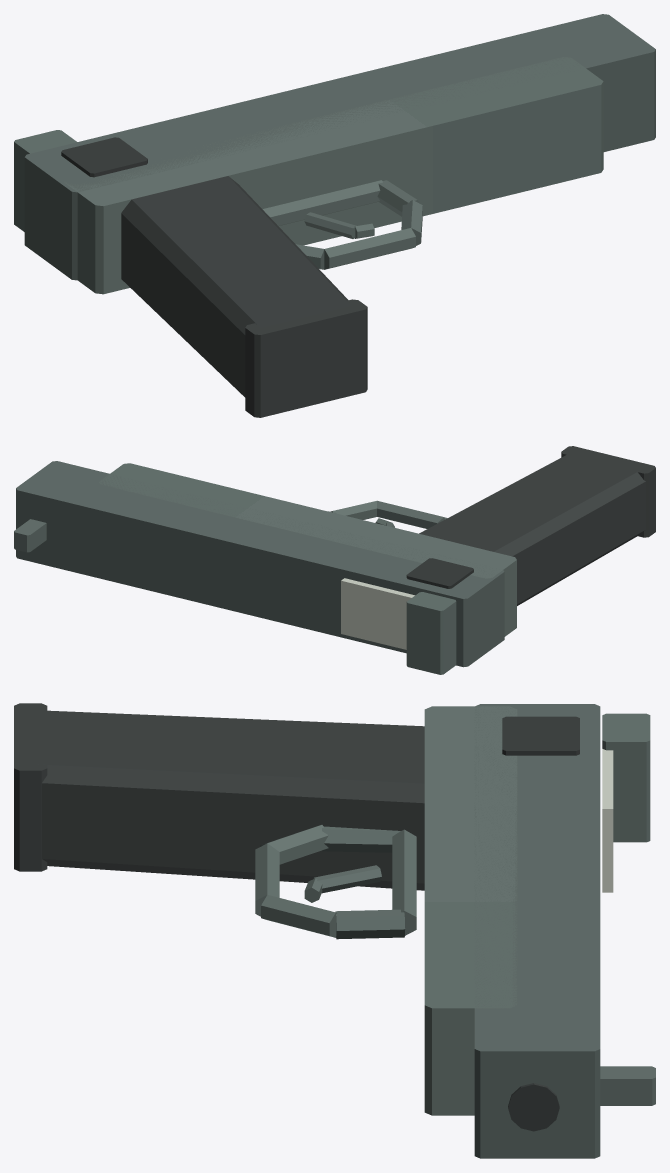
File: weapon-glock-34.glb
The picture shows the model from 3 angles, top to bottom: view 1: azimuth 30°, elevation 25°; view 2: azimuth 150°, elevation 25°; view 3: azimuth 270°, elevation 25°; orthographic projection. The views are drawn at different scales.
Visible parts, largest first — view 1: weapon-glock-34/lower-frame, weapon-glock-34/flat-slide, weapon-glock-34/eight-sided-grip, weapon-glock-34/eight-sided-grip-heel, weapon-glock-34/hollow-trigger-guard-1, weapon-glock-34/slide-rear-serrations-left, weapon-glock-34/hollow-trigger-guard-4, weapon-glock-34/rear-sight, weapon-glock-34/hollow-trigger-guard-trigger-1, weapon-glock-34/hollow-trigger-guard-2, weapon-glock-34/hollow-trigger-guard-3; view 2: weapon-glock-34/flat-slide, weapon-glock-34/eight-sided-grip, weapon-glock-34/lower-frame, weapon-glock-34/rear-sight, weapon-glock-34/top-cover-plate, weapon-glock-34/eight-sided-grip-heel, weapon-glock-34/slide-rear-serrations-left, weapon-glock-34/hollow-trigger-guard-4, weapon-glock-34/front-sight, weapon-glock-34/hollow-trigger-guard-3; view 3: weapon-glock-34/eight-sided-grip, weapon-glock-34/flat-slide, weapon-glock-34/lower-frame, weapon-glock-34/rear-sight, weapon-glock-34/eight-sided-grip-heel, weapon-glock-34/slide-rear-serrations-left, weapon-glock-34/front-sight, weapon-glock-34/hollow-trigger-guard-1, weapon-glock-34/hollow-trigger-guard-2, weapon-glock-34/muzzle-dark-disc, weapon-glock-34/hollow-trigger-guard-3, weapon-glock-34/top-cover-plate (+4 smaller).
Boxes of the visible parts, box(x1,y1,x2,y2) form: weapon-glock-34/lower-frame: box(64, 57, 603, 294); weapon-glock-34/flat-slide: box(24, 14, 655, 280); weapon-glock-34/eight-sided-grip: box(121, 176, 351, 397); weapon-glock-34/eight-sided-grip-heel: box(245, 299, 367, 417); weapon-glock-34/hollow-trigger-guard-1: box(262, 180, 382, 225); weapon-glock-34/slide-rear-serrations-left: box(61, 137, 147, 177); weapon-glock-34/hollow-trigger-guard-4: box(324, 228, 415, 269); weapon-glock-34/rear-sight: box(14, 130, 76, 231); weapon-glock-34/hollow-trigger-guard-trigger-1: box(304, 212, 356, 238); weapon-glock-34/hollow-trigger-guard-2: box(377, 180, 419, 216); weapon-glock-34/hollow-trigger-guard-3: box(401, 200, 422, 245); weapon-glock-34/flat-slide: box(16, 461, 504, 667); weapon-glock-34/eight-sided-grip: box(419, 451, 645, 605); weapon-glock-34/lower-frame: box(99, 463, 516, 636); weapon-glock-34/rear-sight: box(406, 592, 456, 674); weapon-glock-34/top-cover-plate: box(341, 578, 414, 649); weapon-glock-34/eight-sided-grip-heel: box(561, 446, 655, 537); weapon-glock-34/slide-rear-serrations-left: box(406, 558, 473, 588); weapon-glock-34/hollow-trigger-guard-4: box(377, 500, 447, 528); weapon-glock-34/front-sight: box(14, 519, 46, 552); weapon-glock-34/hollow-trigger-guard-3: box(331, 501, 376, 519); weapon-glock-34/eight-sided-grip: box(30, 710, 424, 890); weapon-glock-34/flat-slide: box(474, 704, 600, 1158); weapon-glock-34/lower-frame: box(424, 706, 517, 1115); weapon-glock-34/rear-sight: box(602, 713, 650, 842); weapon-glock-34/eight-sided-grip-heel: box(14, 703, 47, 871); weapon-glock-34/slide-rear-serrations-left: box(502, 716, 579, 755); weapon-glock-34/front-sight: box(600, 1066, 655, 1105); weapon-glock-34/hollow-trigger-guard-1: box(392, 829, 416, 935); weapon-glock-34/hollow-trigger-guard-2: box(335, 909, 405, 939); weapon-glock-34/muzzle-dark-disc: box(508, 1083, 559, 1131); weapon-glock-34/hollow-trigger-guard-3: box(261, 895, 336, 937); weapon-glock-34/top-cover-plate: box(602, 749, 613, 892).
Size of the model in its own units: 0.2265 by 0.0348 by 0.1735.
Materials: 3 (3 with a texture image).
